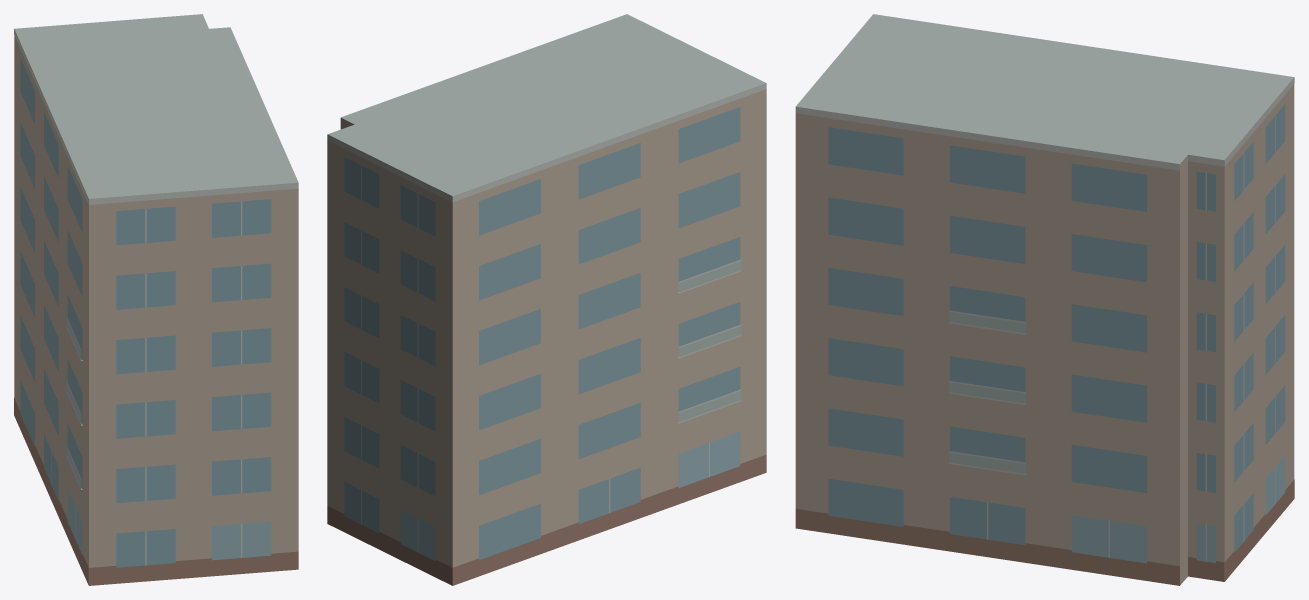
Rendered from survey-upis-32510085.glb.
3 views of the same model, side by side, from view 1: azimuth 30°, elevation 25°; view 2: azimuth 150°, elevation 25°; view 3: azimuth 270°, elevation 25° (orthographic). The views are drawn at different scales.
Parts seen in each view (by area): view 1: survey-upis-32510085.tmp; view 2: survey-upis-32510085.tmp; view 3: survey-upis-32510085.tmp.
Boxes of the visible parts, left/top/right/bottom form: survey-upis-32510085.tmp: left=14, top=14, right=298, bottom=585; survey-upis-32510085.tmp: left=327, top=14, right=766, bottom=585; survey-upis-32510085.tmp: left=795, top=14, right=1294, bottom=585.
Size of the model in its own units: 12.03 by 15.75 by 16.89.
